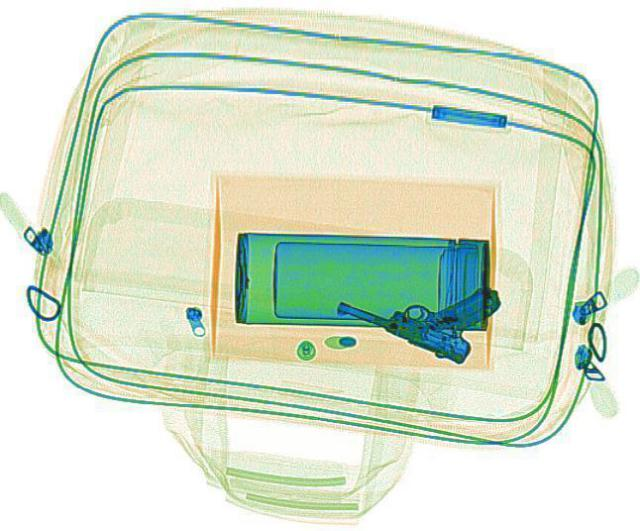Gun: (328, 241, 510, 364)
